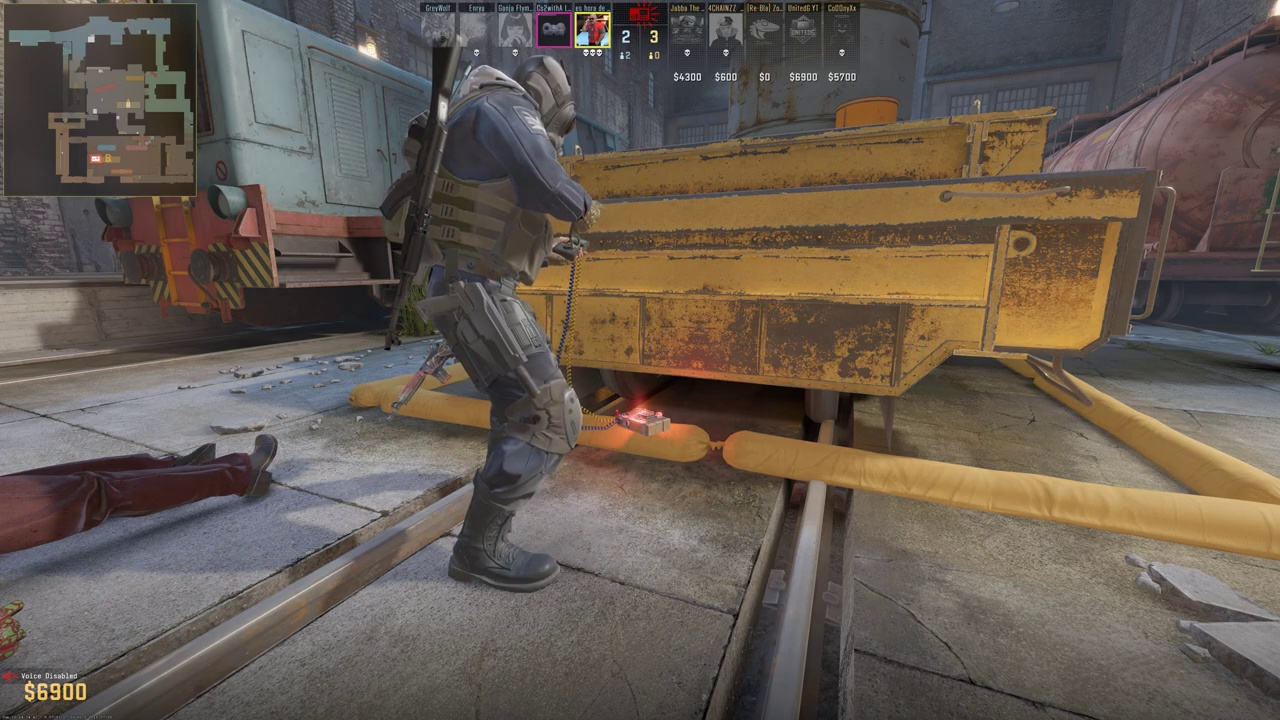CT: (409, 55, 598, 590)
